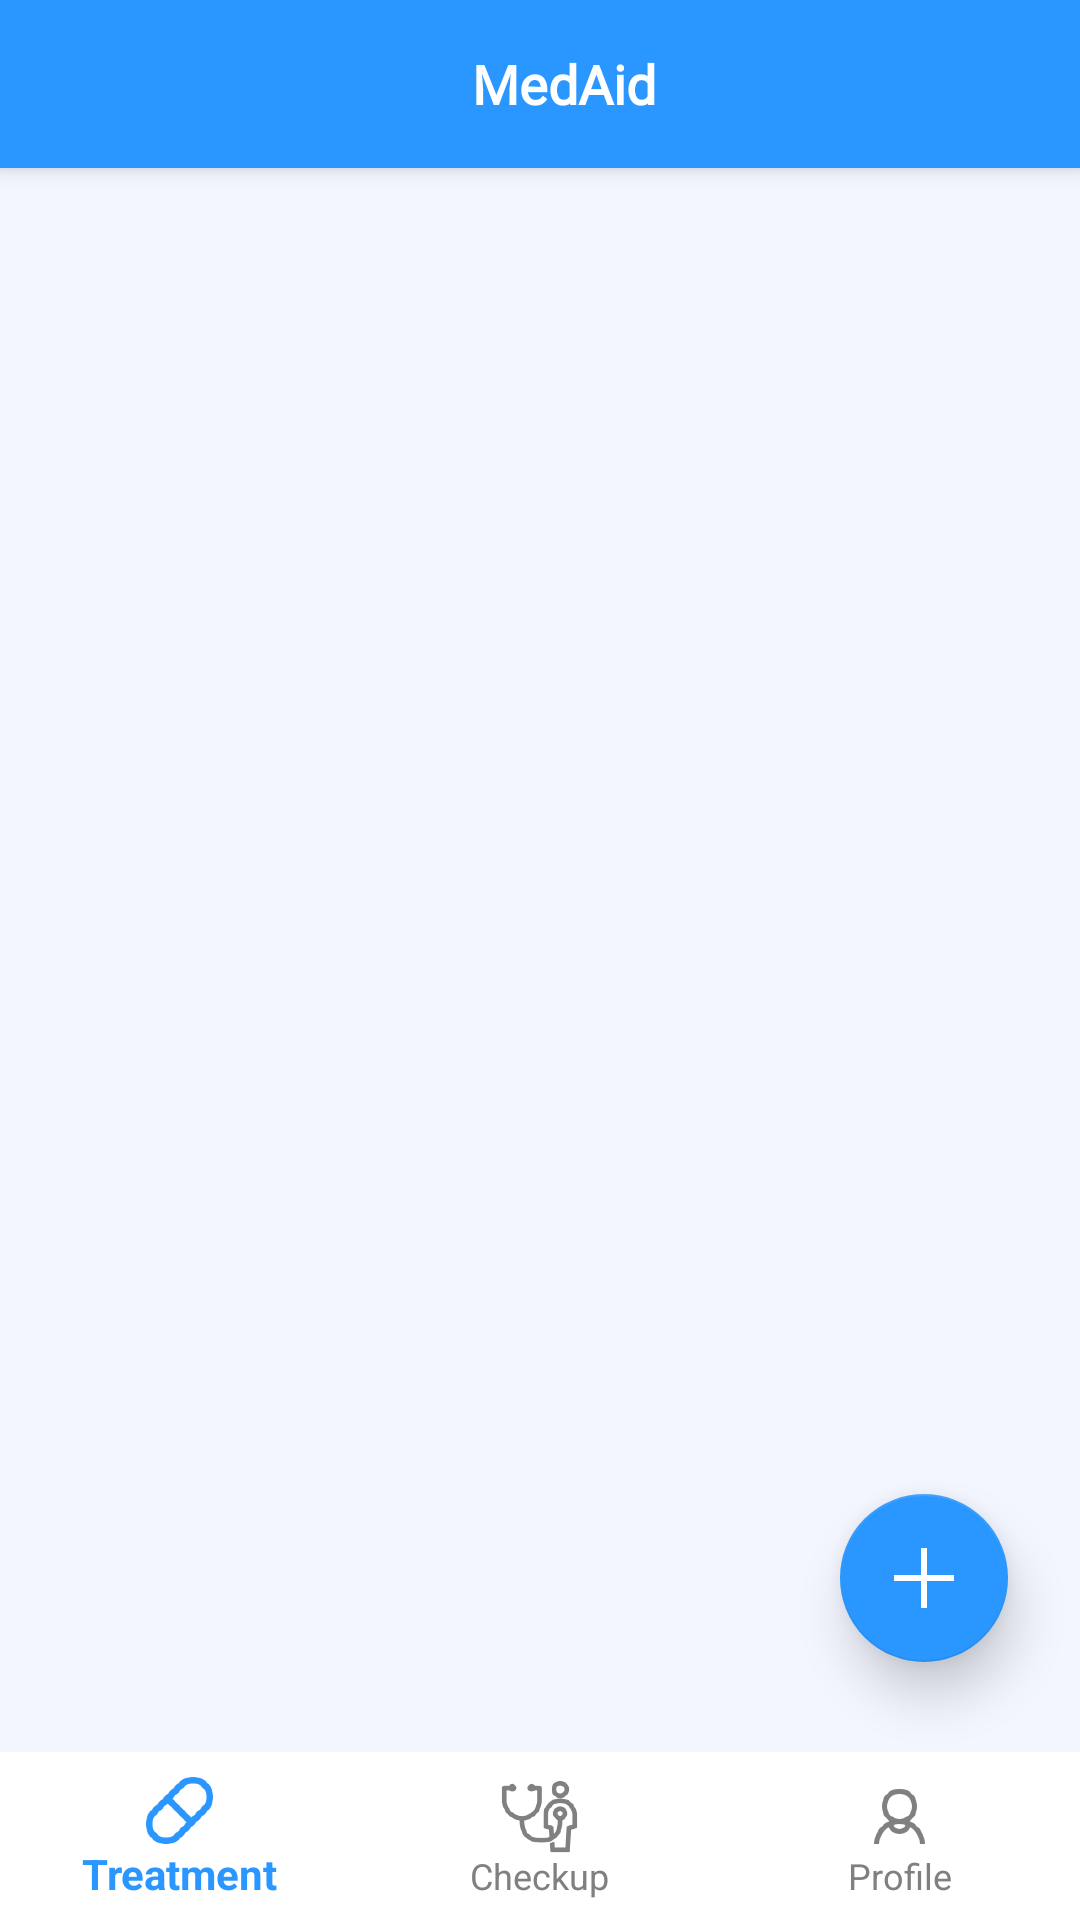

Named icons in this screenshot (1080 × 1920) and their bounding boxes, {"x1": x1, "y1": y1, "x2": x2, "y2": y2}:
plus: {"x1": 840, "y1": 1494, "x2": 1008, "y2": 1662}
